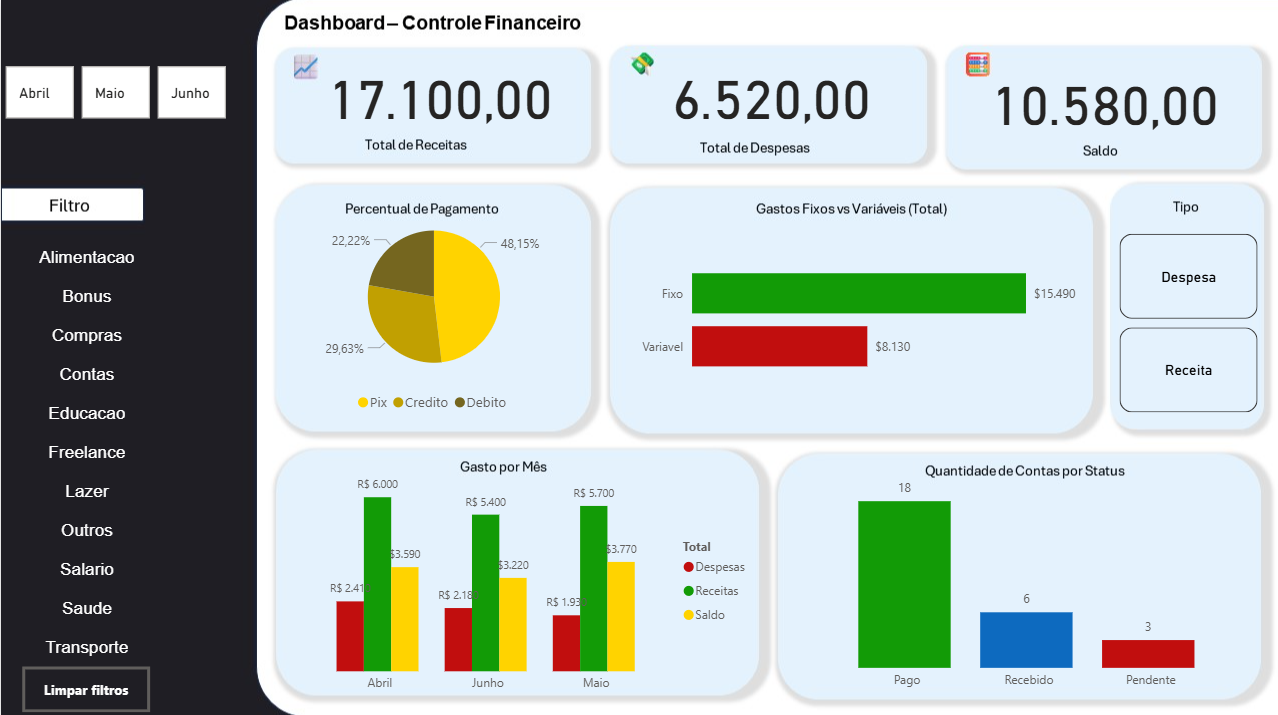

Layout of this report page (visuals, bound fields, positions):
{"tool":"powerbi","page":{"name":"Página 1","canvas":[1280,720],"ordinal":0},"visuals":[{"type":"pieChart","title":"Forma de Pagamento","fields":{"Category":["Controle de Gastos.Forma de Pagamento"],"Y":["CountNonNull(Controle de Gastos.Forma de Pagamento)"]},"box":[300,202.5,266.2,220],"z":0},{"type":"card","fields":{"Values":["Medidas.Soma de Despesas"]},"box":[631,41,278.7,106.2],"z":1000},{"type":"card","fields":{"Values":["Medidas.Soma de Receitas"]},"box":[312.5,47.1,253.4,94.1],"z":2000},{"type":"clusteredColumnChart","title":"Gastos Por Mês","fields":{"Category":["Controle de Gastos.Nome mes"],"Y":["Medidas.Soma de Despesas","Medidas.Soma de Receitas","Medidas.Saldo"]},"box":[287.5,465,471.2,237.5],"z":3000},{"type":"advancedSlicerVisual","fields":{"Values":["Controle de Gastos.Categoria"]},"box":[14.5,230.4,142.4,444],"z":4000},{"type":"card","fields":{"Values":["Medidas.Saldo2"]},"box":[973.6,47.1,260.6,106.2],"z":5000},{"type":"advancedSlicerVisual","fields":{"Values":["Controle de Gastos.Tipo"]},"box":[1113.5,230.4,148.4,189.4],"z":6000},{"type":"clusteredColumnChart","title":"Status de Contas","fields":{"Y":["CountNonNull(Controle de Gastos.Nome mes)"],"Category":["Controle de Gastos.Status"]},"box":[803.5,464.5,448.8,234],"z":7000},{"type":"barChart","title":"Controle de Gastos","fields":{"Category":["Controle de Gastos.Tipo de Gasto"],"Y":["Sum(Controle de Gastos.Valor)"]},"box":[631.2,213.8,453.8,208.8],"z":8000},{"type":"actionButton","box":[21.7,667.2,127.9,45.8],"z":9000},{"type":"advancedSlicerVisual","fields":{"Values":["Controle de Gastos.Nome mes"]},"box":[0,62.5,231.2,62.5],"z":9001}]}

Visuals, with their boxes in screenshot pixels (x1, y1, x2, y2), scaled from the page's 1280x720 canvas onto the 1278x715 screenshot:
"Forma de Pagamento" pieChart: bbox=[300, 201, 565, 420]
card - Medidas.Soma de Despesas: bbox=[630, 41, 908, 146]
card - Medidas.Soma de Receitas: bbox=[312, 47, 565, 140]
"Gastos Por Mês" clusteredColumnChart: bbox=[287, 462, 758, 698]
advancedSlicerVisual - Controle de Gastos.Categoria: bbox=[14, 229, 157, 670]
card - Medidas.Saldo2: bbox=[972, 47, 1232, 152]
advancedSlicerVisual - Controle de Gastos.Tipo: bbox=[1112, 229, 1260, 417]
"Status de Contas" clusteredColumnChart: bbox=[802, 461, 1250, 694]
"Controle de Gastos" barChart: bbox=[630, 212, 1083, 420]
actionButton: bbox=[22, 663, 149, 708]
advancedSlicerVisual - Controle de Gastos.Nome mes: bbox=[0, 62, 231, 124]
